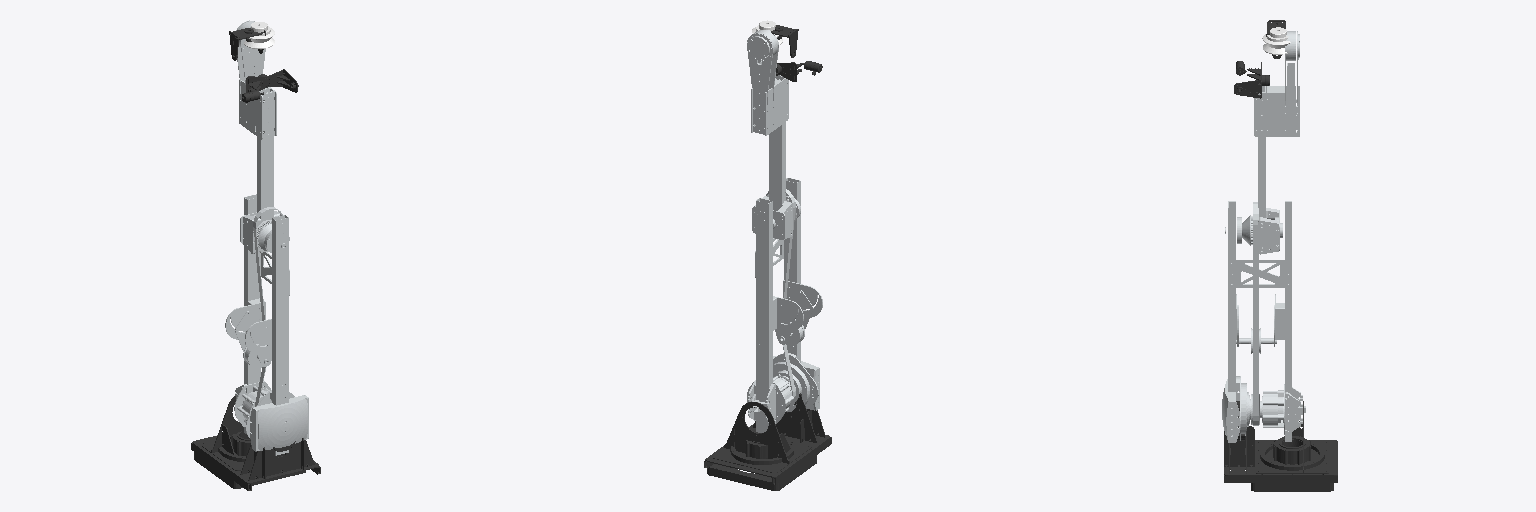
URDF robot description (robotic_arm):
<?xml version="1.0" encoding="utf-8"?>
<!-- This URDF was automatically created by SolidWorks to URDF Exporter! Originally created by Stephen Brawner (brawner@gmail.com) 
     Commit Version: 1.6.0-4-g7f85cfe  Build Version: 1.6.7995.38578
     For more information, please see http://wiki.ros.org/sw_urdf_exporter -->
<robot
  name="robotic_arm">

  <ros2_control name="arm_hw" type="system">
    <hardware>
      <plugin>mujoco_ros2_control/MujocoSystem</plugin>
    </hardware>

    <joint name="joint1">
      <command_interface name="effort"/>
      <state_interface name="position"/>
      <state_interface name="velocity"/>
      <state_interface name="effort"/>
    </joint>

    <joint name="joint2">
      <command_interface name="effort"/>
      <state_interface name="position"/>
      <state_interface name="velocity"/>
      <state_interface name="effort"/>
    </joint>

    <joint name="joint3">
      <command_interface name="effort"/>
      <state_interface name="position"/>
      <state_interface name="velocity"/>
      <state_interface name="effort"/>
    </joint>

    <joint name="joint4">
      <command_interface name="effort"/>
      <state_interface name="position"/>
      <state_interface name="velocity"/>
      <state_interface name="effort"/>
    </joint>

    <joint name="joint5">
      <command_interface name="effort"/>
      <state_interface name="position"/>
      <state_interface name="velocity"/>
      <state_interface name="effort"/>
    </joint>

    <joint name="joint6">
      <command_interface name="effort"/>
      <state_interface name="position"/>
      <state_interface name="velocity"/>
      <state_interface name="effort"/>
    </joint>

</ros2_control>
  <!-- 虚拟根链接，解决KDL根链接惯量问题 -->
  <link name="world"/>
  <joint name="world_to_base" type="fixed">
    <parent link="world"/>
    <child link="base_link"/>
    <origin xyz="0 0 0" rpy="0 0 0"/>
  </joint>
  <link
    name="base_link">
    <inertial>
      <origin
        xyz="-0.0091691 0.00025382 0.018962"
        rpy="0 0 0" />
      <mass
        value="1.0998" />
      <inertia
        ixx="0.0018714"
        ixy="5.0546E-06"
        ixz="8.4992E-08"
        iyy="0.0021258"
        iyz="1.3828E-07"
        izz="0.0039568" />
    </inertial>
    <visual>
      <origin
        xyz="0 0 0"
        rpy="0 0 0" />
      <geometry>
        <mesh
          filename="package://robotic_arm/meshes/base_link.STL" />
      </geometry>
      <material
        name="">
        <color
          rgba="0.29412 0.29412 0.29412 1" />
      </material>
    </visual>
    <collision>
      <origin
        xyz="0 0 0"
        rpy="0 0 0" />
      <geometry>
        <mesh
          filename="package://robotic_arm/meshes/base_link.STL" />
      </geometry>
    </collision>
  </link>
  <link
    name="link1">
    <inertial>
      <origin
        xyz="7.43358623475285E-06 0.023889111022454 0.0983534461817423"
        rpy="0 0 0" />
      <mass
        value="2.34956808405639" />
      <inertia
        ixx="0.00573875484676502"
        ixy="-2.00357397760014E-07"
        ixz="1.05499338060549E-06"
        iyy="0.0081459637209077"
        iyz="2.40543211978046E-05"
        izz="0.00840985861180689" />
    </inertial>
    <visual>
      <origin
        xyz="0 0 0"
        rpy="0 0 0" />
      <geometry>
        <mesh
          filename="package://robotic_arm/meshes/link1.STL" />
      </geometry>
      <material
        name="">
        <color
          rgba="0.294117647058824 0.294117647058824 0.294117647058824 1" />
      </material>
    </visual>
    <collision>
      <origin
        xyz="0 0 0"
        rpy="0 0 0" />
      <geometry>
        <mesh
          filename="package://robotic_arm/meshes/link1.STL" />
      </geometry>
    </collision>
  </link>
  <joint
    name="joint1"
    type="revolute">
    <origin
      xyz="0 0 0"
      rpy="0 0 0" />
    <parent
      link="base_link" />
    <child
      link="link1" />
    <axis
      xyz="0 0 1" />
    <limit
      lower="-6.283185307"
      upper="6.283185307"
      effort="50"
      velocity="10" />
  </joint>
  <link
    name="link2">
    <inertial>
      <origin
        xyz="0.31324601008515 -0.000831742439412309 0.0364273369229759"
        rpy="0 0 0" />
      <mass
        value="1.23727124080295" />
      <inertia
        ixx="0.000574698570546715"
        ixy="6.7861884473848E-07"
        ixz="6.52827071680354E-05"
        iyy="0.0139530728630749"
        iyz="1.73022939218074E-06"
        izz="0.0142113056179225" />
    </inertial>
    <visual>
      <origin
        xyz="0 0 0"
        rpy="0 0 0" />
      <geometry>
        <mesh
          filename="package://robotic_arm/meshes/link2.STL" />
      </geometry>
      <material
        name="">
        <color
          rgba="0.898039215686275 0.917647058823529 0.929411764705882 1" />
      </material>
    </visual>
    <collision>
      <origin
        xyz="0 0 0"
        rpy="0 0 0" />
      <geometry>
        <mesh
          filename="package://robotic_arm/meshes/link2.STL" />
      </geometry>
    </collision>
  </link>
  <joint
    name="joint2"
    type="revolute">
    <origin
      xyz="0 0.03675 0.153"
      rpy="1.5708 -1.5708 0" />
    <parent
      link="link1" />
    <child
      link="link2" />
    <axis
      xyz="0 0 1" />
    <limit
      lower="-1.570796327"
      upper="1.570796327"
      effort="50"
      velocity="10" />
  </joint>
  <link
    name="link3">
    <inertial>
      <origin
        xyz="0.271920716707995 -0.000176719212418436 -0.0120138921627069"
        rpy="0 0 0" />
      <mass
        value="0.370266089775016" />
      <inertia
        ixx="0.000130367133133288"
        ixy="6.8904580007452E-07"
        ixz="-1.94899942108088E-06"
        iyy="0.0026767489060302"
        iyz="-1.73328221772745E-07"
        izz="0.00278032819630172" />
    </inertial>
    <visual>
      <origin
        xyz="0 0 0"
        rpy="0 0 0" />
      <geometry>
        <mesh
          filename="package://robotic_arm/meshes/link3.STL" />
      </geometry>
      <material
        name="">
        <color
          rgba="0.898039215686275 0.917647058823529 0.929411764705882 1" />
      </material>
    </visual>
    <collision>
      <origin
        xyz="0 0 0"
        rpy="0 0 0" />
      <geometry>
        <mesh
          filename="package://robotic_arm/meshes/link3.STL" />
      </geometry>
    </collision>
  </link>
  <joint
    name="joint3"
    type="revolute">
    <origin
      xyz="0.52 0 0.08565"
      rpy="0 0 0" />
    <parent
      link="link2" />
    <child
      link="link3" />
    <axis
      xyz="0 0 1" />
    <limit
      lower="-3.141592654"
      upper="3.141592654"
      effort="50"
      velocity="10" />
  </joint>
  <link
    name="link4">
    <inertial>
      <origin
        xyz="0.101739291148925 0.0561668504993356 -0.0293841566997596"
        rpy="0 0 0" />
      <mass
        value="1.54177209165349" />
      <inertia
        ixx="0.000889042299025289"
        ixy="-2.00979301144906E-06"
        ixz="1.14560649951194E-05"
        iyy="0.000902753866766143"
        iyz="4.25131749155067E-08"
        izz="0.000270000371052934" />
    </inertial>
    <visual>
      <origin
        xyz="0 0 0"
        rpy="0 0 0" />
      <geometry>
        <mesh
          filename="package://robotic_arm/meshes/link4.STL" />
      </geometry>
      <material
        name="">
        <color
          rgba="0.294117647058824 0.294117647058824 0.294117647058824 1" />
      </material>
    </visual>
    <collision>
      <origin
        xyz="0 0 0"
        rpy="0 0 0" />
      <geometry>
        <mesh
          filename="package://robotic_arm/meshes/link4.STL" />
      </geometry>
    </collision>
  </link>
  <joint
    name="joint4"
    type="revolute">
    <origin
      xyz="0.436 0 0.0225"
      rpy="0 0 0" />
    <parent
      link="link3" />
    <child
      link="link4" />
    <axis
      xyz="0 0 1" />
    <limit
      lower="-3.141592654"
      upper="3.141592654"
      effort="50"
      velocity="10" />
  </joint>
  <link
    name="link5">
    <inertial>
      <origin
        xyz="0.0486576553457728 0.00239487174403753 0.00012705522061713"
        rpy="0 0 0" />
      <mass
        value="0.0698721570199944" />
      <inertia
        ixx="1.56377401050224E-05"
        ixy="-2.12604880279856E-07"
        ixz="-4.57425787908851E-21"
        iyy="1.97786334057882E-05"
        iyz="2.67416707819328E-21"
        izz="2.26007956299793E-05" />
    </inertial>
    <visual>
      <origin
        xyz="0 0 0"
        rpy="0 0 0" />
      <geometry>
        <mesh
          filename="package://robotic_arm/meshes/link5.STL" />
      </geometry>
      <material
        name="">
        <color
          rgba="0.294117647058824 0.294117647058824 0.294117647058824 1" />
      </material>
    </visual>
    <collision>
      <origin
        xyz="0 0 0"
        rpy="0 0 0" />
      <geometry>
        <mesh
          filename="package://robotic_arm/meshes/link5.STL" />
      </geometry>
    </collision>
  </link>
  <joint
    name="joint5"
    type="revolute">
    <origin
      xyz="0.07761 -0.0058889 -0.03035"
      rpy="-1.5708 0 0" />
    <parent
      link="link4" />
    <child
      link="link5" />
    <axis
      xyz="0 0 1" />
    <limit
      lower="-0.610865238"
      upper="0.610865238"
      effort="50"
      velocity="10" />
  </joint>
  <link
    name="link6">
    <inertial>
      <origin
        xyz="1.1369377661552E-14 3.51232931627976E-13 0.0193009014981094"
        rpy="0 0 0" />
      <mass
        value="0.128099358994803" />
      <inertia
        ixx="6.47696731838478E-05"
        ixy="9.75275553763421E-22"
        ixz="-2.32600096593007E-21"
        iyy="6.47696731838478E-05"
        iyz="-1.86347248395946E-20"
        izz="9.58412456894771E-05" />
    </inertial>
    <visual>
      <origin
        xyz="0 0 0"
        rpy="0 0 0" />
      <geometry>
        <mesh
          filename="package://robotic_arm/meshes/link6.STL" />
      </geometry>
      <material
        name="">
        <color
          rgba="1 1 1 1" />
      </material>
    </visual>
    <collision>
      <origin
        xyz="0 0 0"
        rpy="0 0 0" />
      <geometry>
        <mesh
          filename="package://robotic_arm/meshes/link6.STL" />
      </geometry>
    </collision>
  </link>
  <joint
    name="joint6"
    type="revolute">
    <origin
      xyz="0.073796 0.0036822 8.8922E-05"
      rpy="0 -1.5708 3.14" />
    <parent
      link="link5" />
    <child
      link="link6" />
    <axis
      xyz="0 0 1" />
    <limit
      lower="-3.14159"
      upper="3.14159"
      effort="50"
      velocity="10" />
  </joint>
</robot>

--- Render facts (derived) ---
Views: 3 orthographic renders of the robot side by side, from view 1: azimuth 30°, elevation 25°; view 2: azimuth 150°, elevation 25°; view 3: azimuth 270°, elevation 25°.
Robot: robotic_arm — 8 links, 7 joints (6 revolute, 1 fixed); root link world; default pose: all joints at 0.
Links seen in each view (by area): view 1: link2, link3, link1, link4, base_link, link6; view 2: link2, link3, link1, base_link, link4; view 3: link2, link3, link1, base_link, link4, link6.
Boxes of the visible links, left/top/right/bottom form: link2: left=225, top=194, right=308, bottom=455; link3: left=236, top=20, right=289, bottom=253; link1: left=191, top=396, right=320, bottom=490; link4: left=242, top=69, right=298, bottom=102; base_link: left=200, top=431, right=250, bottom=470; link6: left=244, top=22, right=274, bottom=48; link2: left=747, top=178, right=822, bottom=432; link3: left=747, top=29, right=800, bottom=239; link1: left=704, top=393, right=831, bottom=490; base_link: left=713, top=431, right=811, bottom=472; link4: left=776, top=61, right=822, bottom=81; link2: left=1222, top=201, right=1305, bottom=442; link3: left=1225, top=31, right=1299, bottom=254; link1: left=1224, top=401, right=1337, bottom=491; base_link: left=1255, top=436, right=1329, bottom=473; link4: left=1234, top=61, right=1269, bottom=98; link6: left=1262, top=27, right=1290, bottom=54.
Bounding box of the posed robot: 0.22 × 0.3058 × 1.29 m (x, y, z).
7 mesh visuals loaded from 7 distinct referenced files (7 binary STL).
